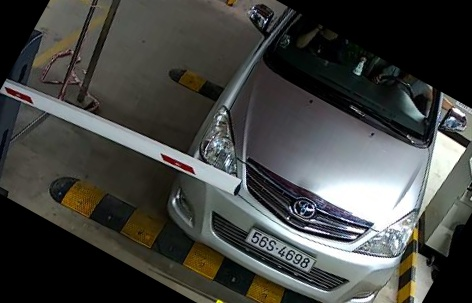plate: (246, 225, 322, 277)
